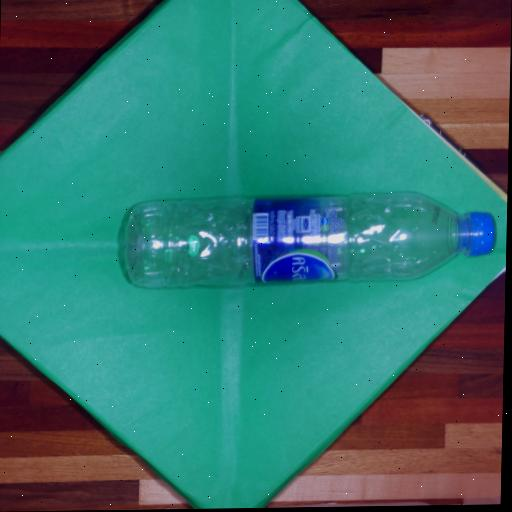bottle: (109, 178, 505, 303)
